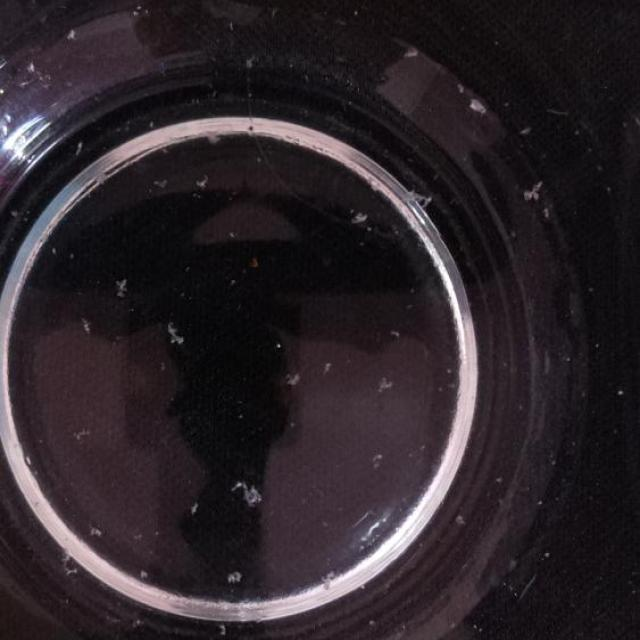fiber: (396, 187, 430, 216), (228, 481, 262, 509), (521, 174, 543, 205), (84, 518, 110, 544), (60, 541, 78, 578), (354, 210, 378, 235), (164, 320, 183, 350), (74, 305, 93, 335), (470, 93, 491, 118), (386, 323, 410, 343), (540, 194, 554, 224), (112, 273, 128, 297), (402, 43, 419, 62), (322, 356, 334, 381), (189, 497, 201, 521), (227, 568, 244, 583), (378, 375, 388, 398), (141, 566, 153, 583), (290, 376, 301, 389)
